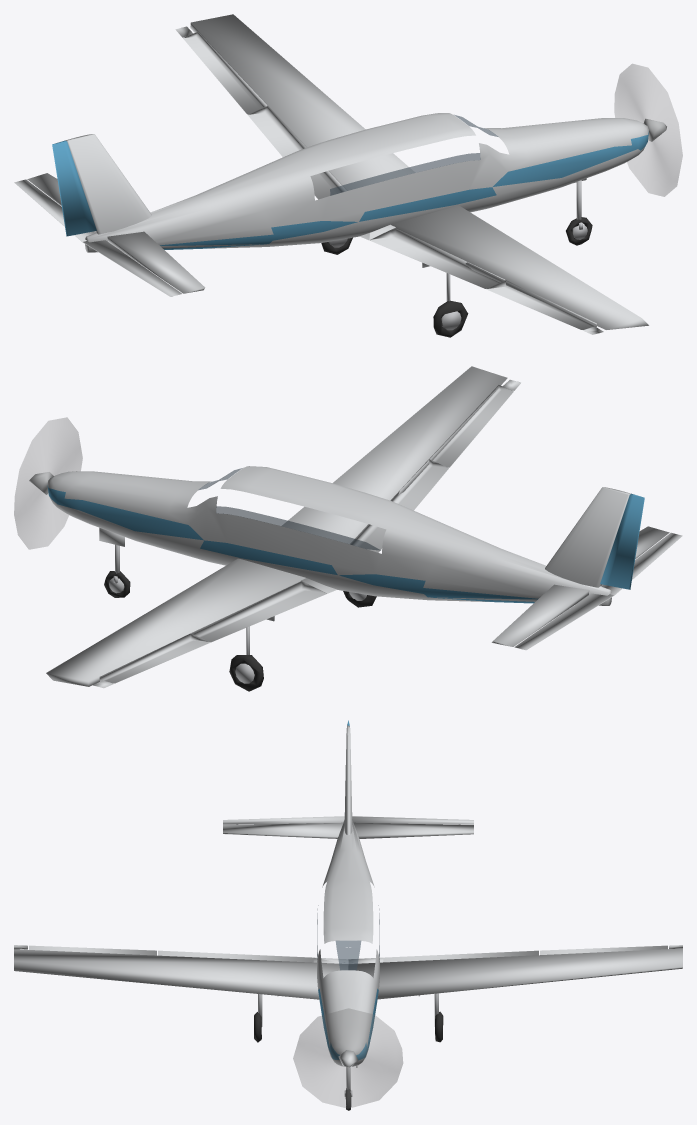
Rendered from sprite_lod2.glb.
3 views of the same model, one above another, from view 1: azimuth 30°, elevation 25°; view 2: azimuth 150°, elevation 25°; view 3: azimuth 270°, elevation 25° (orthographic). The views are drawn at different scales.
Visible parts, largest first — view 1: fuselage, wing_R, wing_L, prop_1_disc, fin, stabilizer, flap_R_1, rudder, elevator, flap_L_1, aileron_L, aileron_R (+2 smaller); view 2: fuselage, wing_L, wing_R, prop_1_disc, fin, stabilizer, flap_L_1, rudder, elevator, flap_R_1, aileron_R, aileron_L (+2 smaller); view 3: wing_R, fuselage, wing_L, prop_1_disc, stabilizer, elevator, flap_R_1, flap_L_1, glass, fin, aileron_R, aileron_L.
Part boxes in pixels (x1,y1,x2,y2): fuselage: [85, 113, 649, 252]; wing_R: [359, 205, 648, 334]; wing_L: [175, 14, 415, 190]; prop_1_disc: [614, 64, 682, 196]; fin: [66, 134, 151, 234]; stabilizer: [27, 173, 205, 293]; flap_R_1: [369, 228, 504, 288]; rudder: [52, 140, 96, 236]; elevator: [14, 179, 181, 296]; flap_L_1: [248, 106, 346, 199]; aileron_L: [183, 32, 267, 114]; aileron_R: [486, 280, 596, 329]; fuselage: [47, 466, 611, 605]; wing_L: [46, 558, 336, 688]; wing_R: [282, 366, 520, 543]; prop_1_disc: [14, 417, 82, 549]; fin: [545, 487, 630, 587]; stabilizer: [491, 526, 669, 646]; flap_L_1: [191, 581, 326, 642]; rudder: [600, 493, 644, 589]; elevator: [514, 532, 682, 650]; flap_R_1: [350, 459, 448, 552]; aileron_R: [429, 385, 513, 467]; aileron_L: [99, 633, 210, 683]; wing_R: [14, 945, 348, 999]; fuselage: [317, 819, 379, 1066]; wing_L: [348, 945, 682, 999]; prop_1_disc: [293, 1008, 402, 1108]; stabilizer: [223, 822, 473, 838]; elevator: [223, 816, 473, 824]; flap_R_1: [158, 950, 313, 962]; flap_L_1: [383, 950, 538, 962]; glass: [317, 905, 379, 970]; fin: [344, 725, 352, 835]; aileron_R: [29, 945, 156, 955]; aileron_L: [540, 945, 667, 954].
Size of the model in its own units: 12.26 by 4.46 by 14.4.
